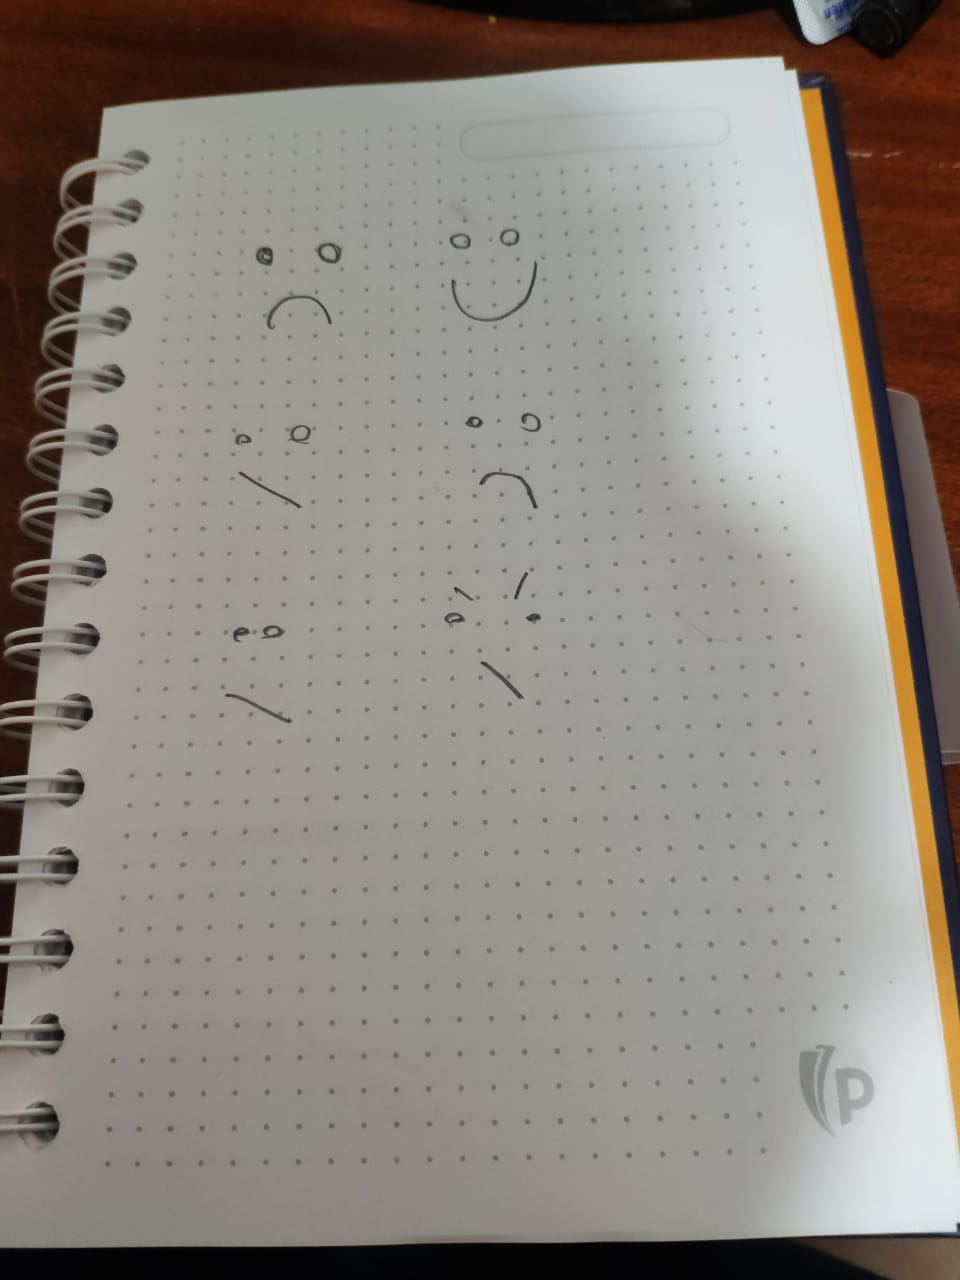feliz: (429, 214, 571, 359)
